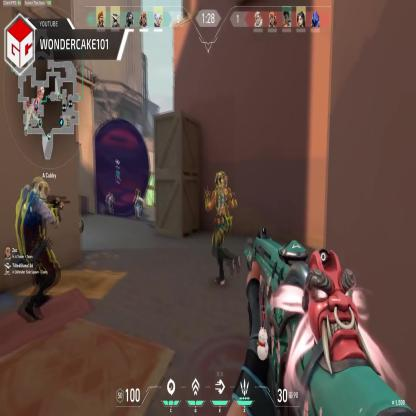enemy: (17, 172, 55, 337), (208, 170, 243, 290), (134, 190, 144, 221), (109, 188, 118, 219)
enemy_head: (215, 172, 226, 191), (37, 179, 47, 198), (138, 190, 141, 198), (110, 193, 114, 198)
